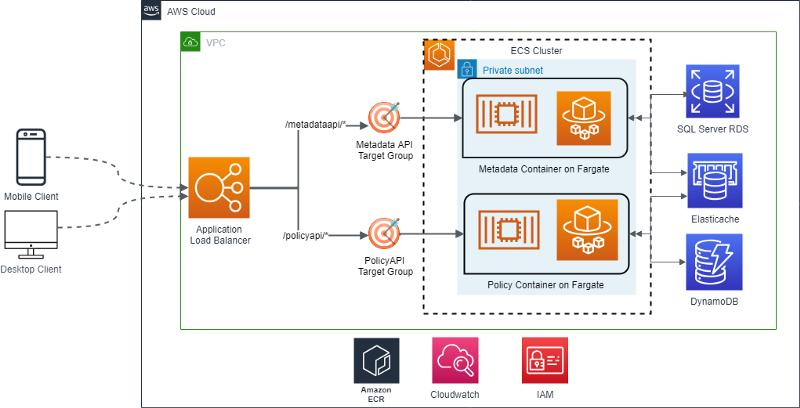Cloud Watch: (430, 336, 480, 384)
Container: (468, 88, 544, 139), (475, 203, 543, 252)
Dynamo DB: (683, 234, 743, 292)
ELB: (187, 156, 249, 220)
ElastiCache: (688, 152, 742, 209)
Elastic Container Registry: (353, 336, 400, 385)
Elastic Container Service: (424, 38, 454, 71)
Fargate: (555, 200, 618, 261), (557, 90, 610, 147)
IAM: (523, 336, 566, 383)
Mobile Client: (12, 118, 57, 190)
Private Subnet: (457, 60, 477, 78)
RDS: (685, 64, 739, 120)
Web Clients: (0, 206, 67, 260)
aws: (141, 0, 162, 20)
